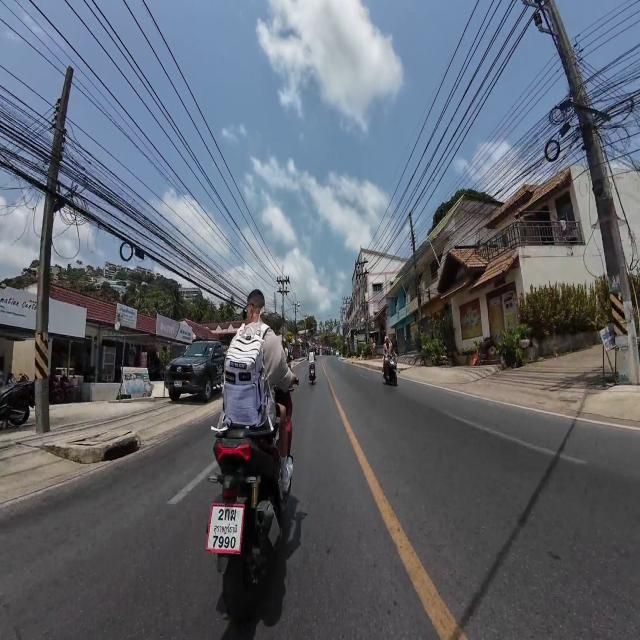car: (165, 341, 225, 402)
motorcycle: (207, 425, 288, 623), (383, 357, 397, 386), (309, 362, 316, 385)
